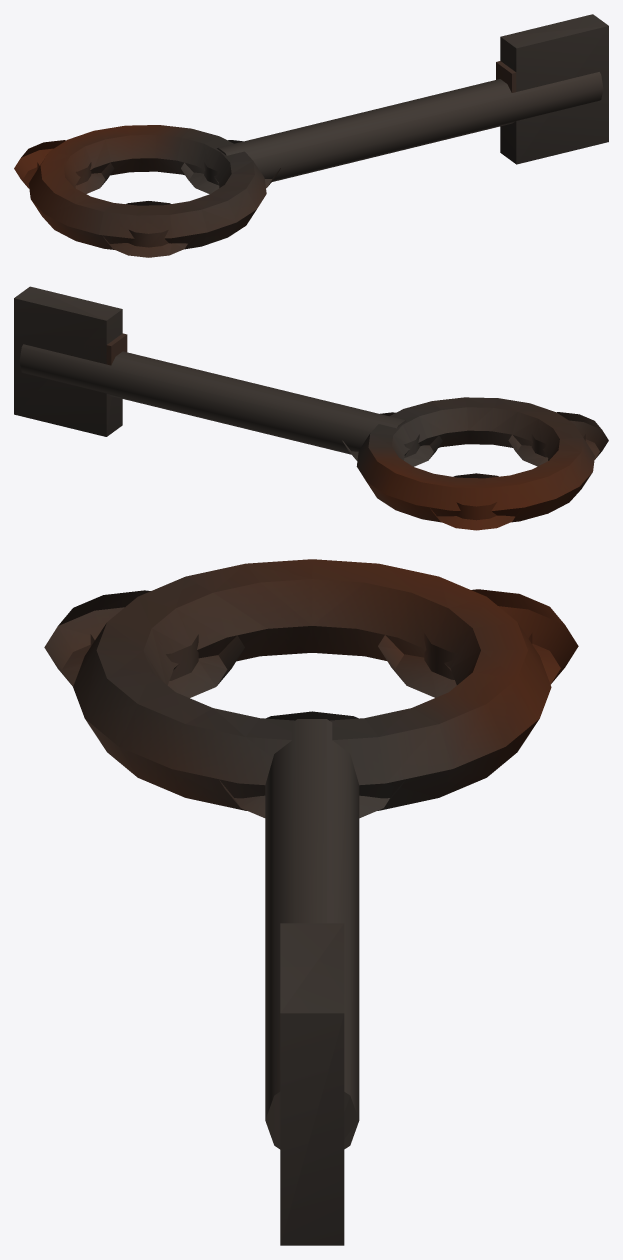
Rendered from HouseKey.glb.
The picture shows the model from 3 angles, top to bottom: view 1: azimuth 30°, elevation 25°; view 2: azimuth 150°, elevation 25°; view 3: azimuth 270°, elevation 25°; orthographic projection. The views are drawn at different scales.
Parts seen in each view (by area): view 1: HouseKey_iron; view 2: HouseKey_iron; view 3: HouseKey_iron.
Boxes of the visible parts, <box> form: HouseKey_iron: <box>14,14,608,257</box>; HouseKey_iron: <box>14,286,608,530</box>; HouseKey_iron: <box>44,559,578,1245</box>.
Size of the model in its own units: 0.602 by 0.12 by 0.2501.
